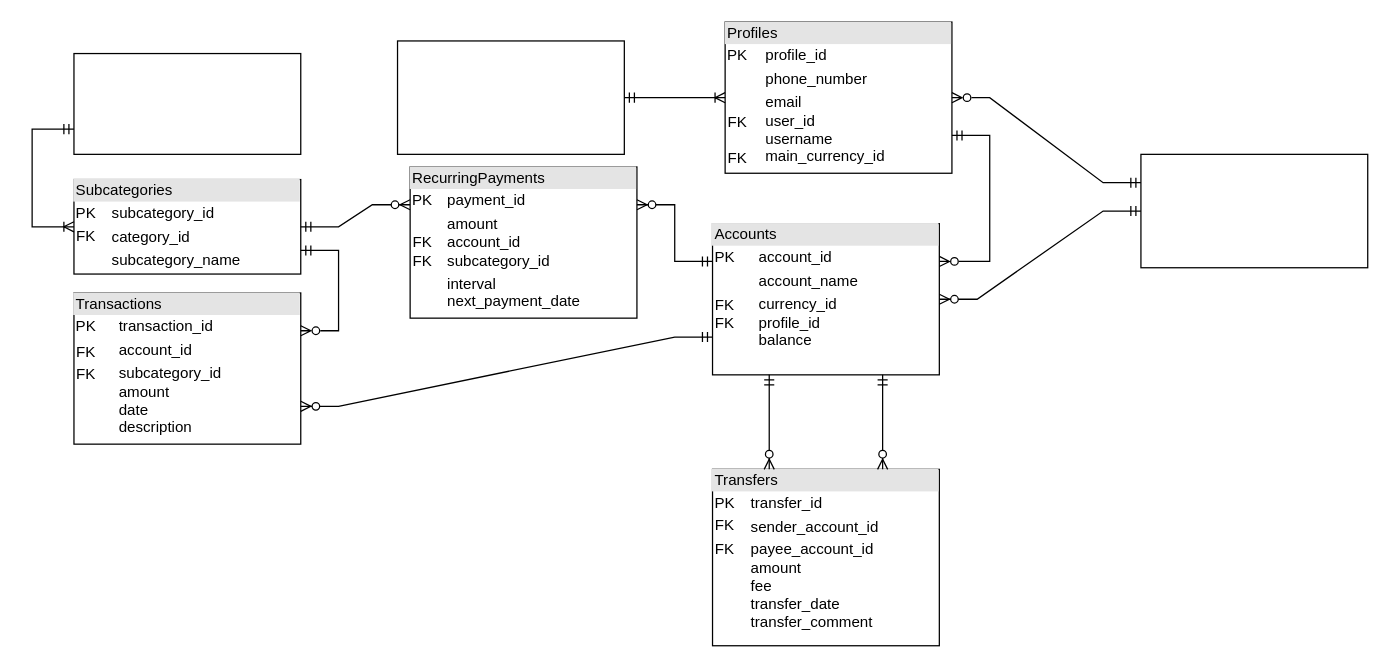
This 1390x668 diagram has some shape labels left out. Each missing label, with the centre of its shape:
"Categories PK category_id category_name category_type" goes at (187,103).
"Currencies PK currency_id code_name currency_name" goes at (1254,210).
"Users PK user_id login password reg_date" goes at (510,97).
